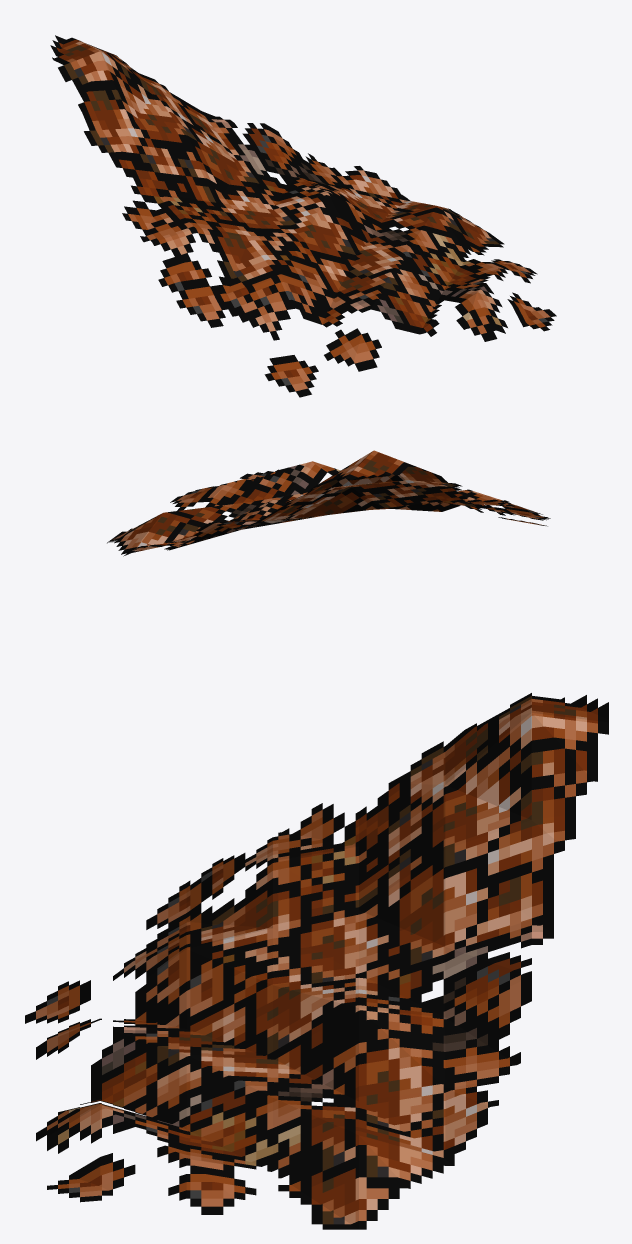
The model's file is debris_202x02.gltf.
3 renders of one model, top to bottom at view 1: azimuth 30°, elevation 25°; view 2: azimuth 150°, elevation 25°; view 3: azimuth 270°, elevation 25°, orthographic. The views are drawn at different scales.
Parts seen in each view (by area): view 1: debris_202x02; view 2: debris_202x02; view 3: debris_202x02.
Part boxes in pixels (x1=…): debris_202x02: x1=50, y1=35, x2=556, y2=397; debris_202x02: x1=107, y1=450, x2=550, y2=556; debris_202x02: x1=25, y1=693, x2=608, y2=1229.
Bounding box in the file's own units: 4.99 × 3.04 × 4.98.
1 material, 1 textured.
